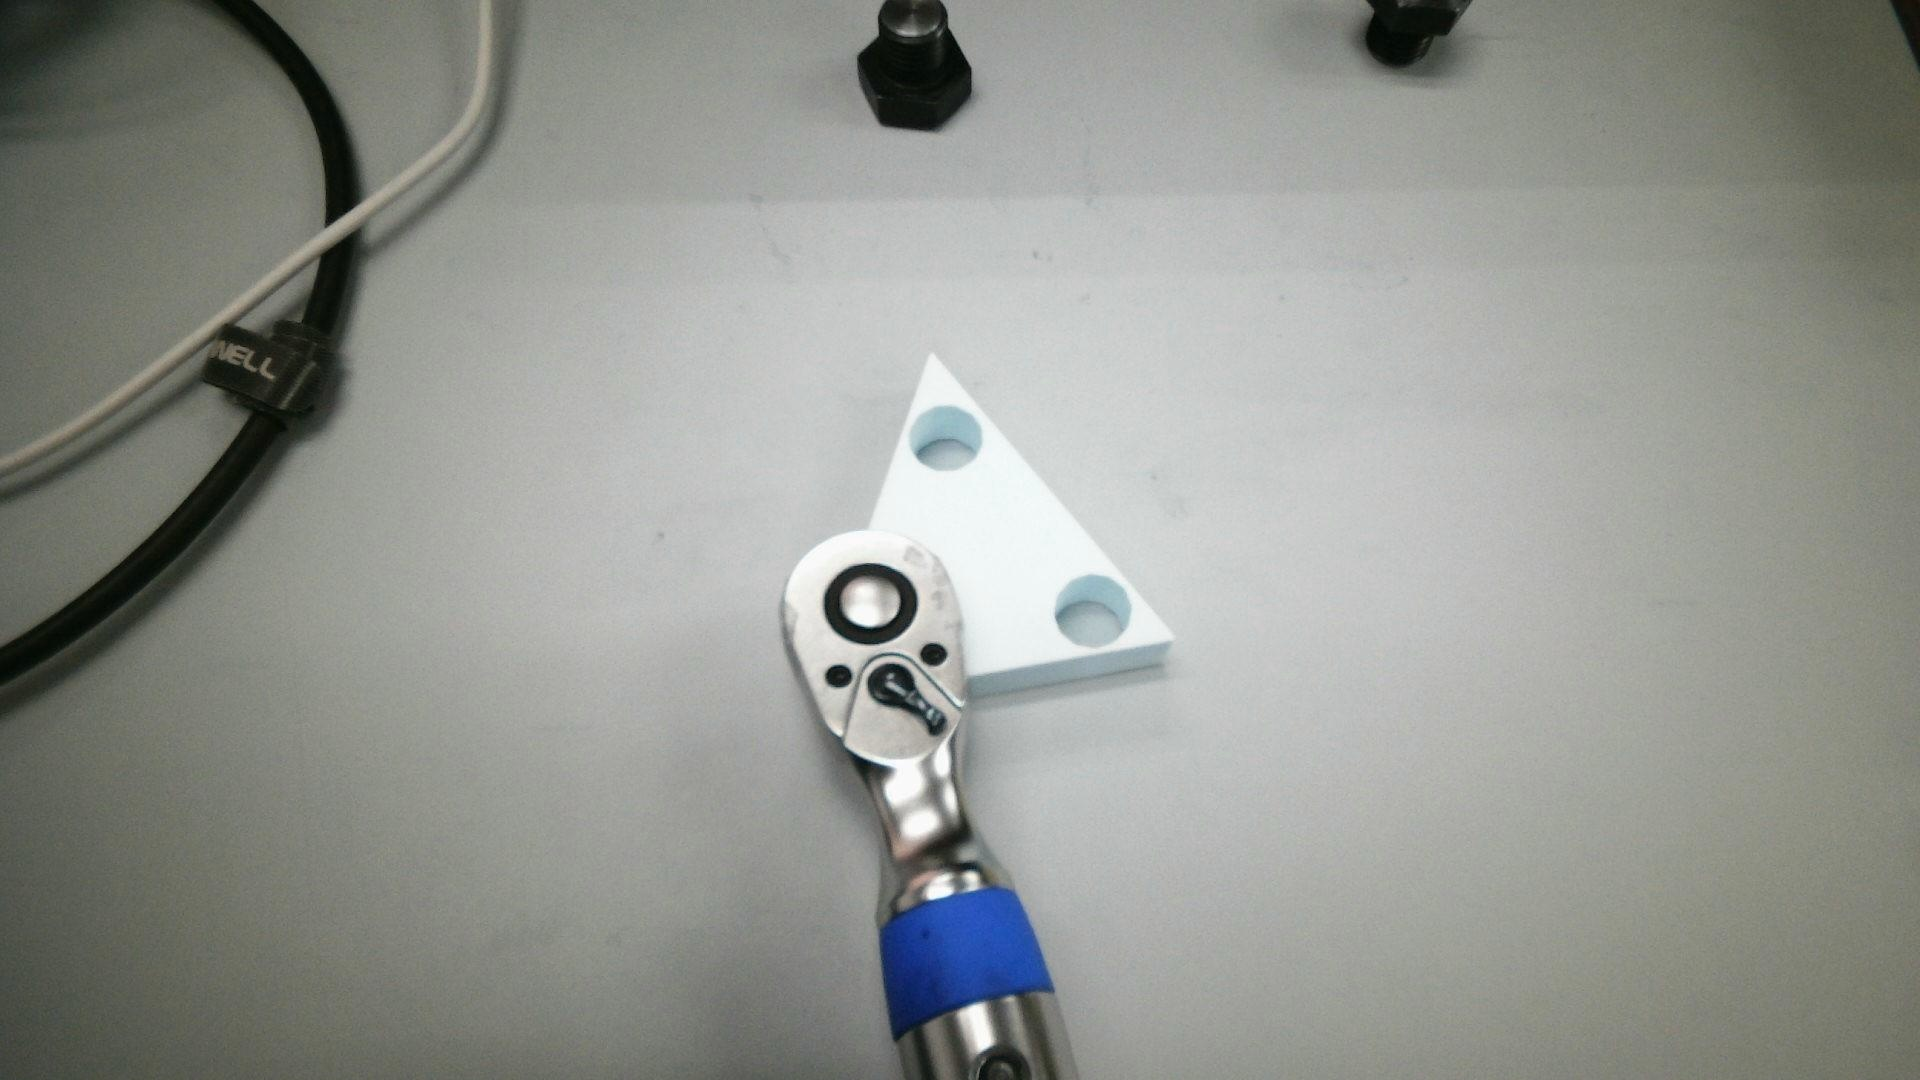hole: (1054, 575, 1131, 647), (907, 405, 984, 471)
obj: (866, 352, 1175, 698)
wrench: (822, 563, 918, 647)
